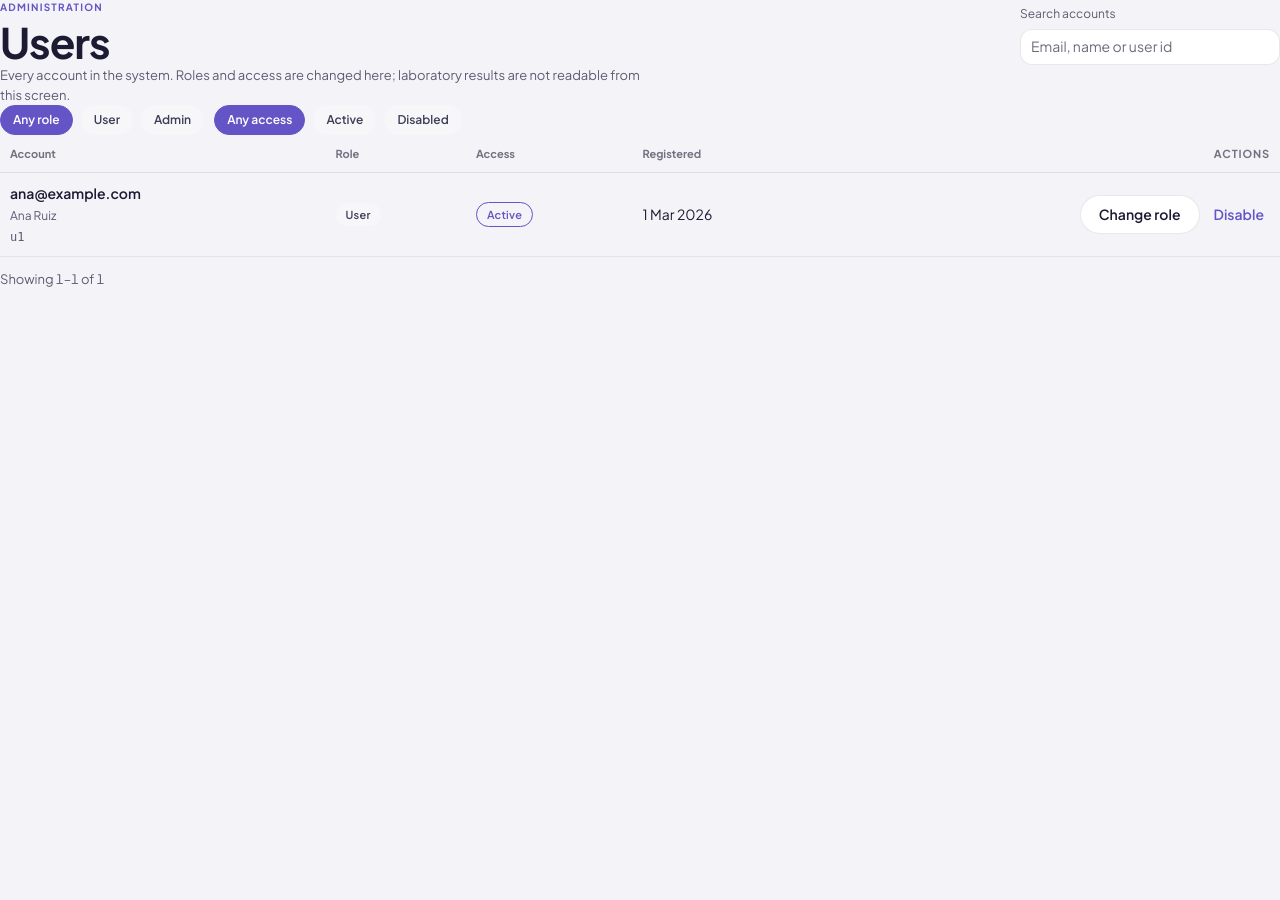
Test: changing a role › says what admin can reach before it asks
Click the button with aria-label "Change the role of ana@example.com": (1140, 215) [1080, 196, 1200, 234]
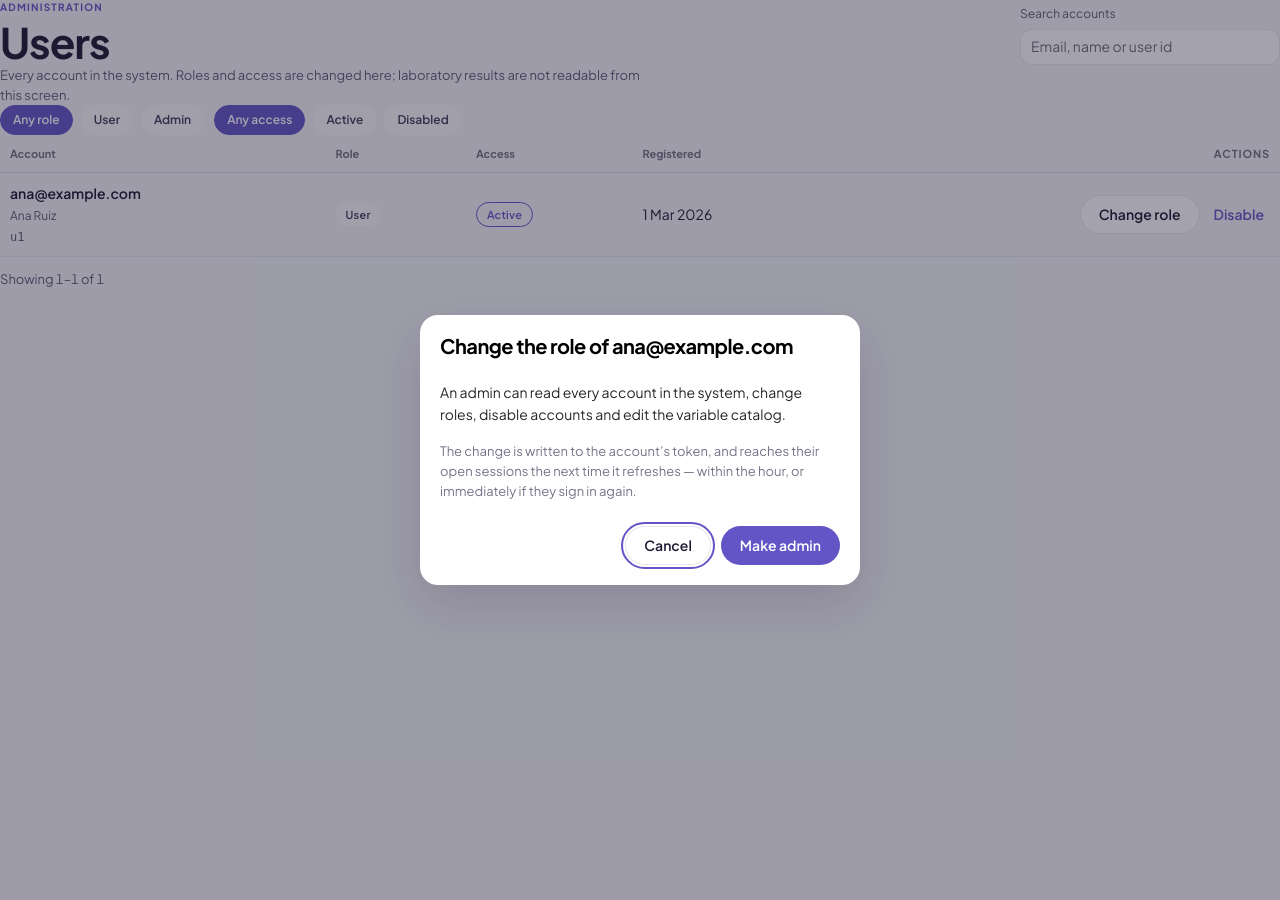
Result: the text "can read every account in the system" is shown at [440, 383, 802, 423]
Result: the text "next time it refreshes" is shown at [440, 443, 819, 499]
